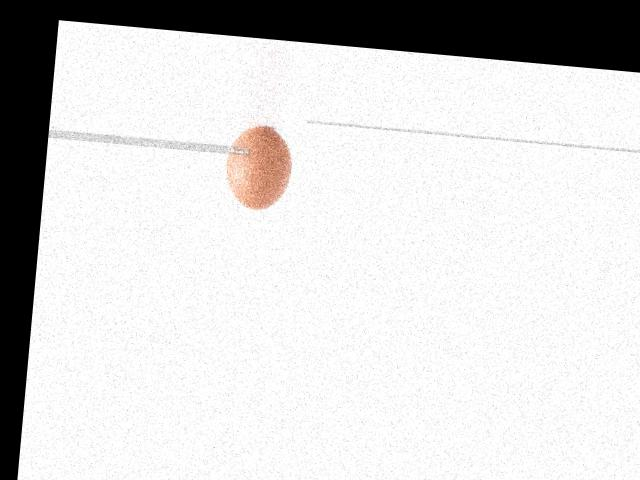egg: (222, 125, 294, 212)
